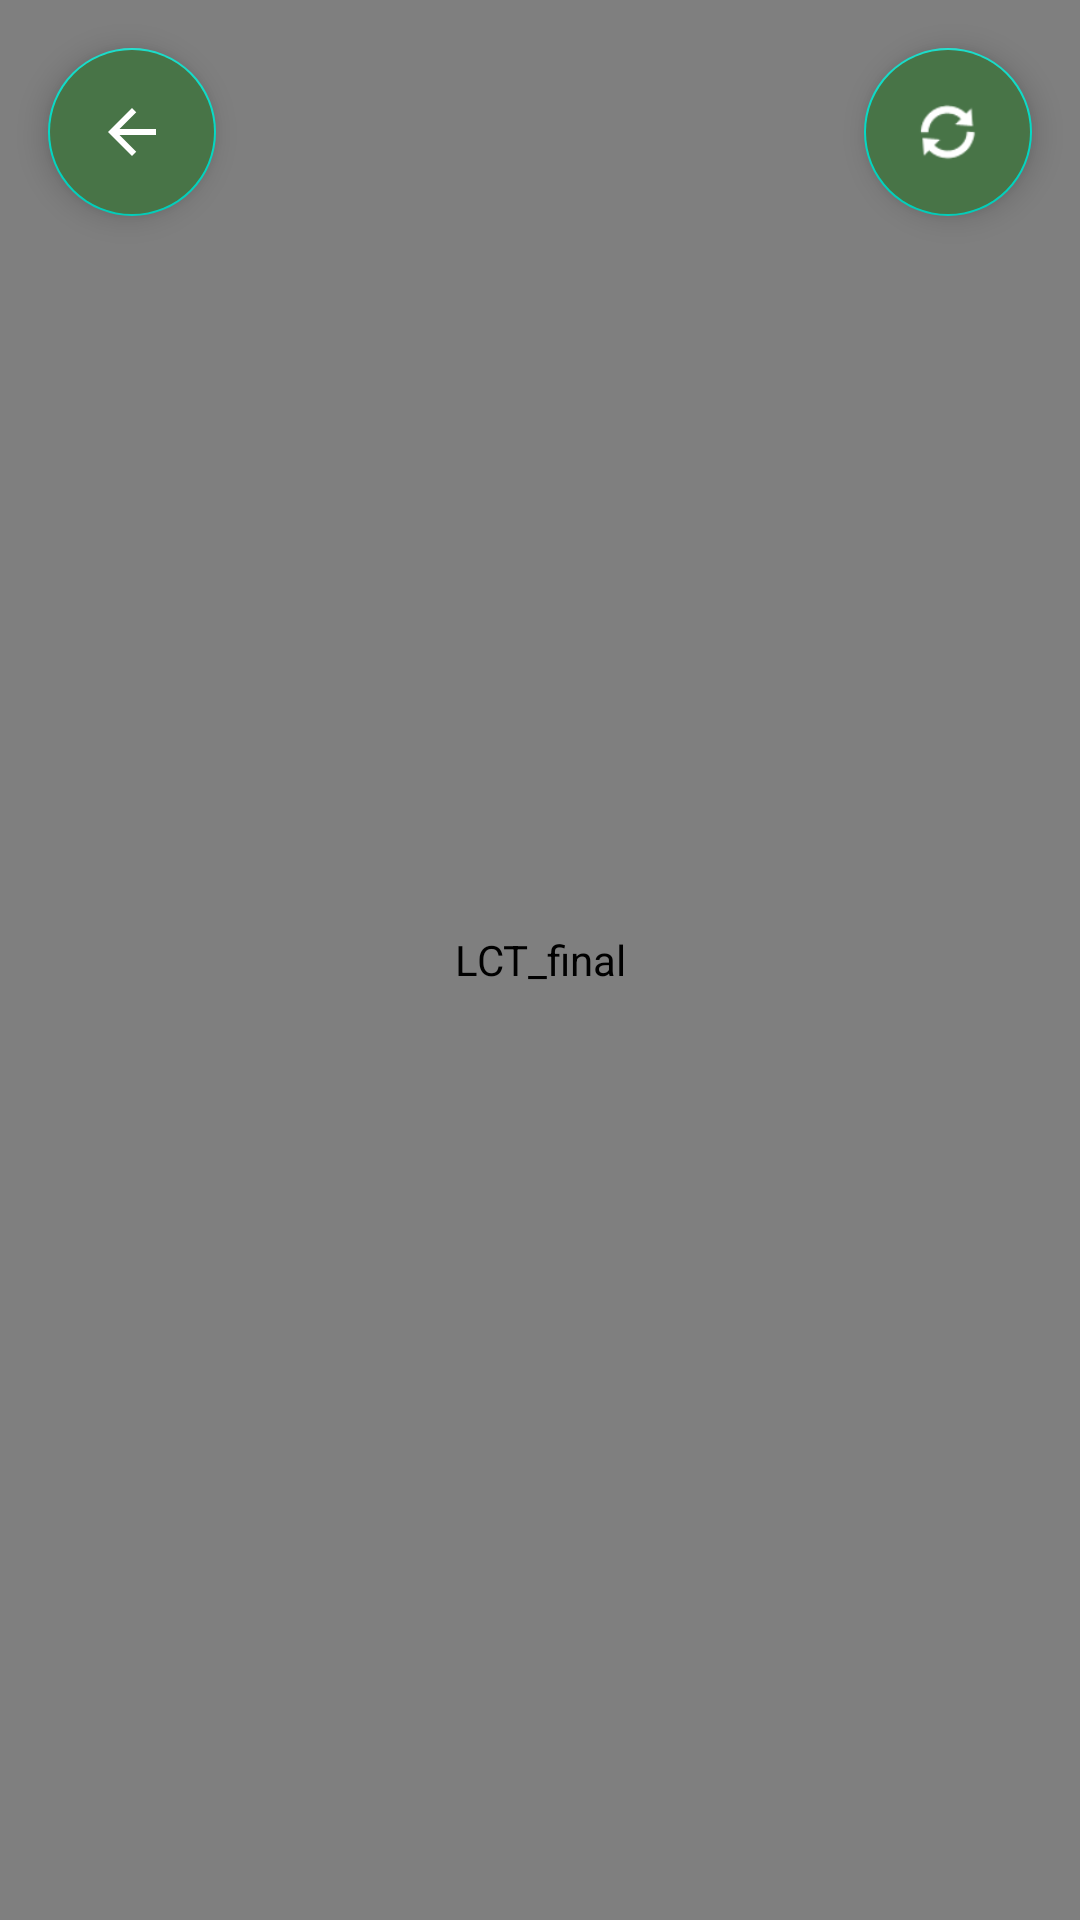

Icons on this 1080*1920 Android screen, each with its box as (x1,y1,x2,y2):
arrow back: (48,48,216,216)
Обновить данные: (864,48,1032,216)
